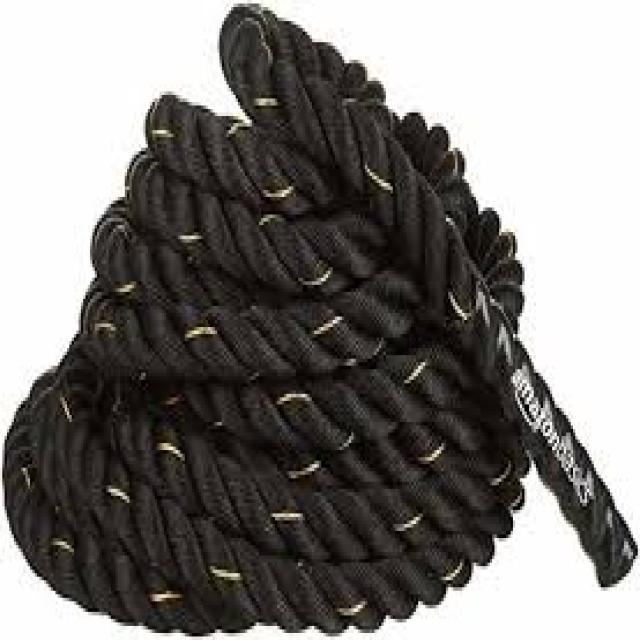rope: (0, 4, 640, 636)
